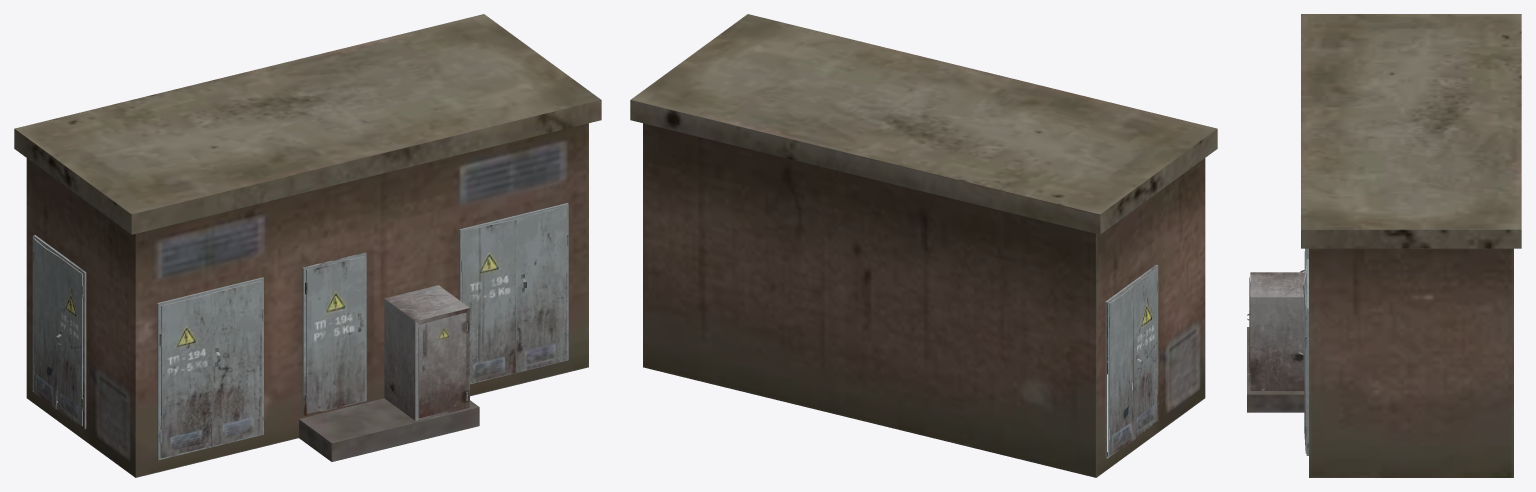
File: transformer-booth.zfix-v14.lod1.glb
3 renders of one model, left to right at view 1: azimuth 30°, elevation 25°; view 2: azimuth 150°, elevation 25°; view 3: azimuth 270°, elevation 25°, orthographic. The views are drawn at different scales.
Parts seen in each view (by area): view 1: transform_low_brick_0, transform_low_metal_0; view 2: transform_low_brick_0, transform_low_metal_0; view 3: transform_low_brick_0, transform_low_metal_0.
Boxes of the visible parts, x1,y1,x2,y2 form: transform_low_brick_0: (14,14,601,477); transform_low_metal_0: (32,203,568,460); transform_low_brick_0: (630,14,1217,477); transform_low_metal_0: (1105,264,1158,458); transform_low_brick_0: (1247,14,1521,477); transform_low_metal_0: (1247,248,1308,455).
Bounding box in the file's own units: 8 × 4.37 × 4.32.
Materials: 2 (2 with a texture image).
